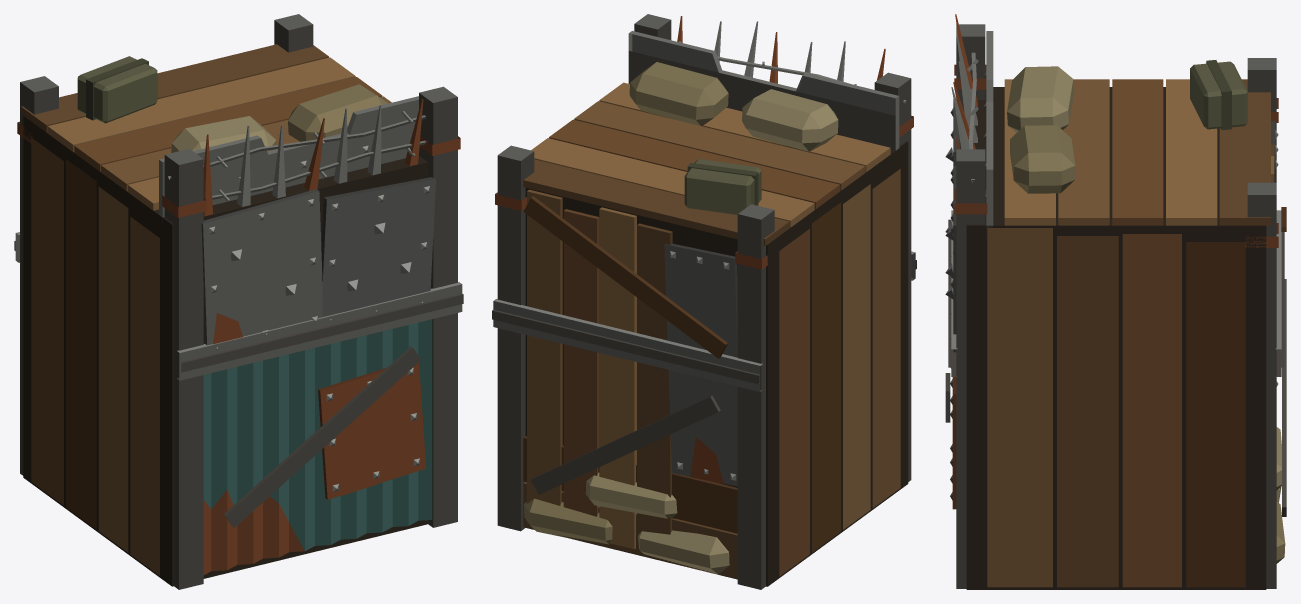
Rendered from muro_reforcado_1.glb.
3 views of the same model, side by side, from view 1: azimuth 30°, elevation 25°; view 2: azimuth 150°, elevation 25°; view 3: azimuth 270°, elevation 25° (orthographic). The views are drawn at different scales.
Visible parts, largest first — view 1: muro_reforcado_1.001; view 2: muro_reforcado_1.001; view 3: muro_reforcado_1.001.
Part boxes in pixels (x1,y1,x2,y2): muro_reforcado_1.001: [14, 14, 463, 589]; muro_reforcado_1.001: [492, 14, 916, 589]; muro_reforcado_1.001: [945, 14, 1286, 589].
Bounding box in the file's own units: 1.62 × 2.44 × 1.66.
